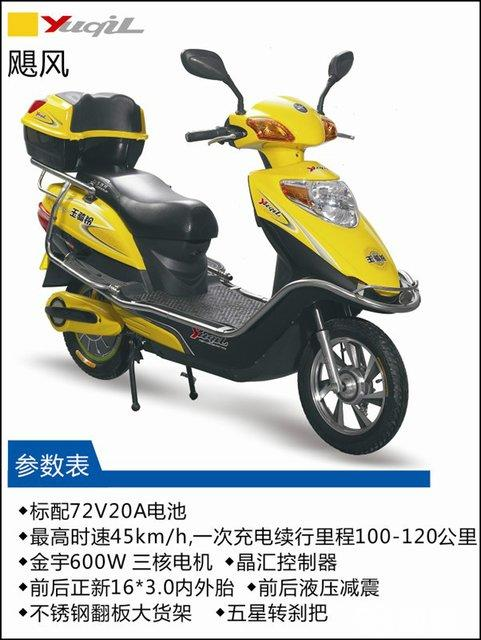电动车: (17, 42, 427, 457)
